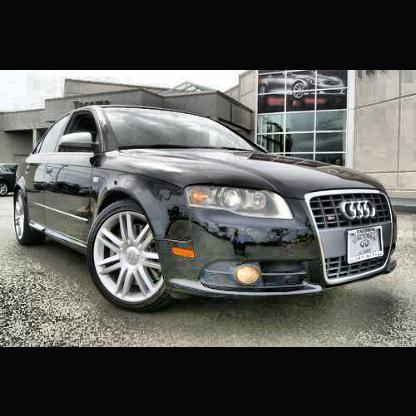Audi S4 Sedan 2007: (11, 107, 397, 310)
